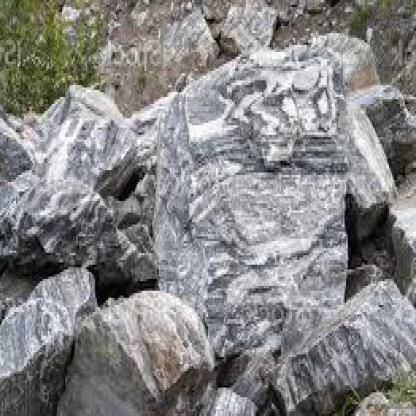Metamorphic_Marble: (143, 43, 354, 368), (49, 276, 224, 414), (278, 264, 415, 414), (2, 262, 95, 414)
